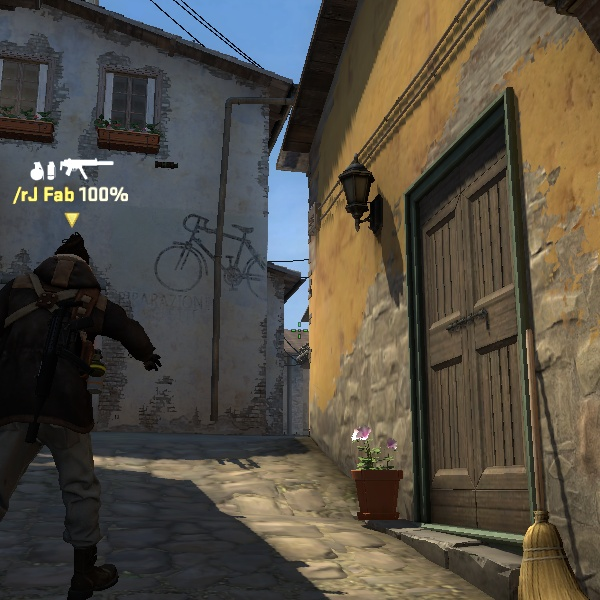t_body: (0, 227, 157, 593)
t_head: (32, 234, 111, 312)
